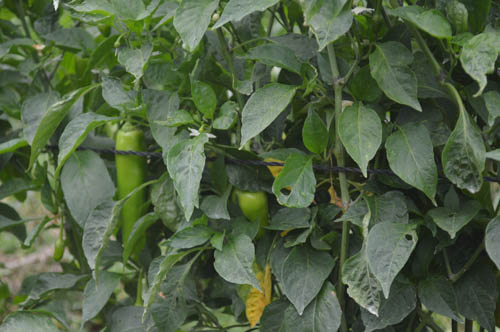ChiliPepper: (115, 130, 151, 251), (240, 195, 272, 236)
